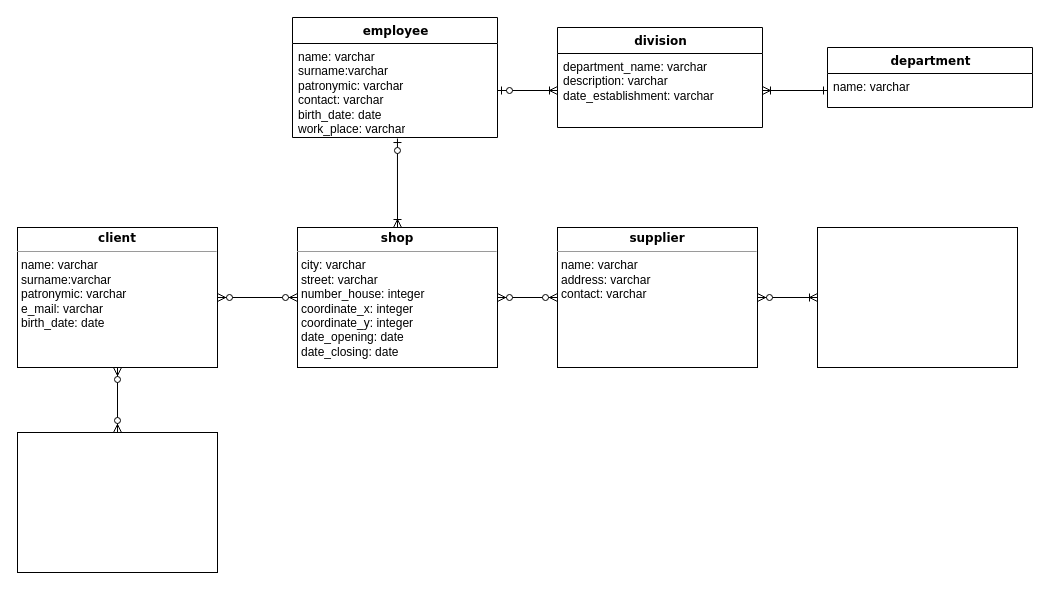
Some shapes in this 1050 by 590 pixel diagram are drawn without their labels. The centre of each missing label's shape, as x and y in pixels:
"product name: varchar description : varchar" goes at point 917,297.
"sale product_name: varchar terms: varchar" goes at point 117,502.
